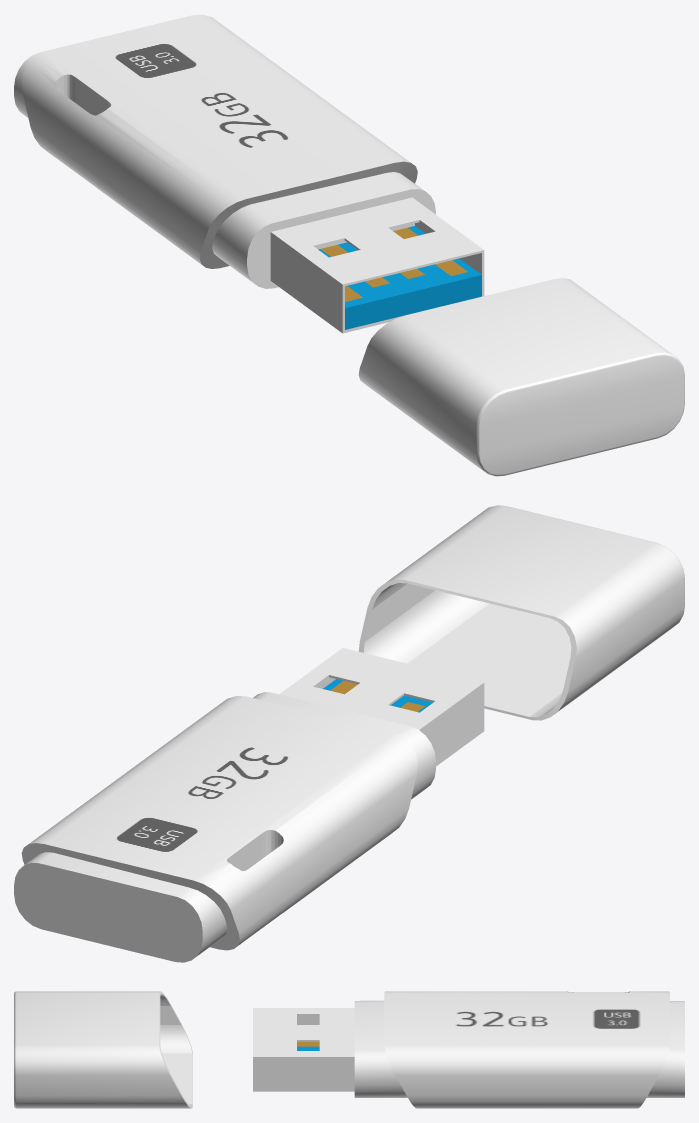
The model's file is usb.fbx.
3 views of the same model, one above another, from view 1: azimuth 30°, elevation 25°; view 2: azimuth 150°, elevation 25°; view 3: azimuth 270°, elevation 25° (orthographic). The views are drawn at different scales.
Visible parts, largest first — view 1: Cube, Cube.001; view 2: Cube, Cube.001; view 3: Cube, Cube.001.
Part boxes in pixels (box(x1,y1,x2,y2)): Cube: box(14, 14, 484, 333); Cube.001: box(358, 278, 684, 476); Cube: box(14, 648, 484, 962); Cube.001: box(358, 505, 684, 720); Cube: box(253, 991, 684, 1108); Cube.001: box(14, 991, 192, 1108).
Size of the model in its own units: 0.6181 by 0.2436 by 2.44.
Materials: 4 (1 with a texture image).
